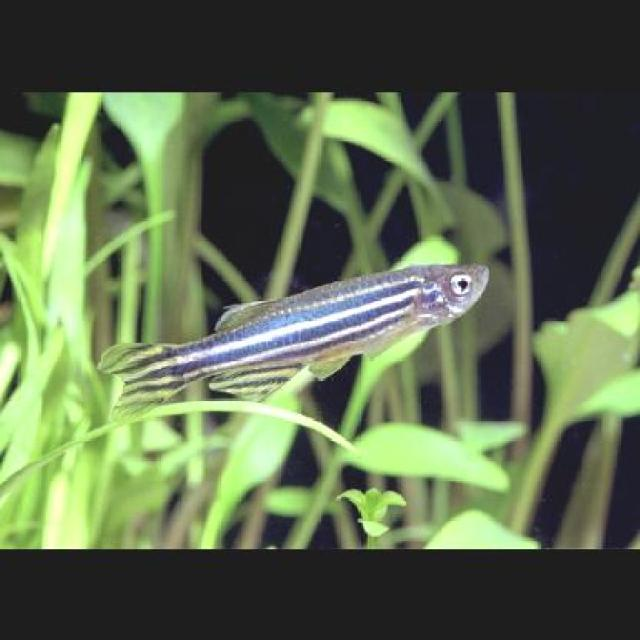ZebraFish: (96, 260, 490, 423)
